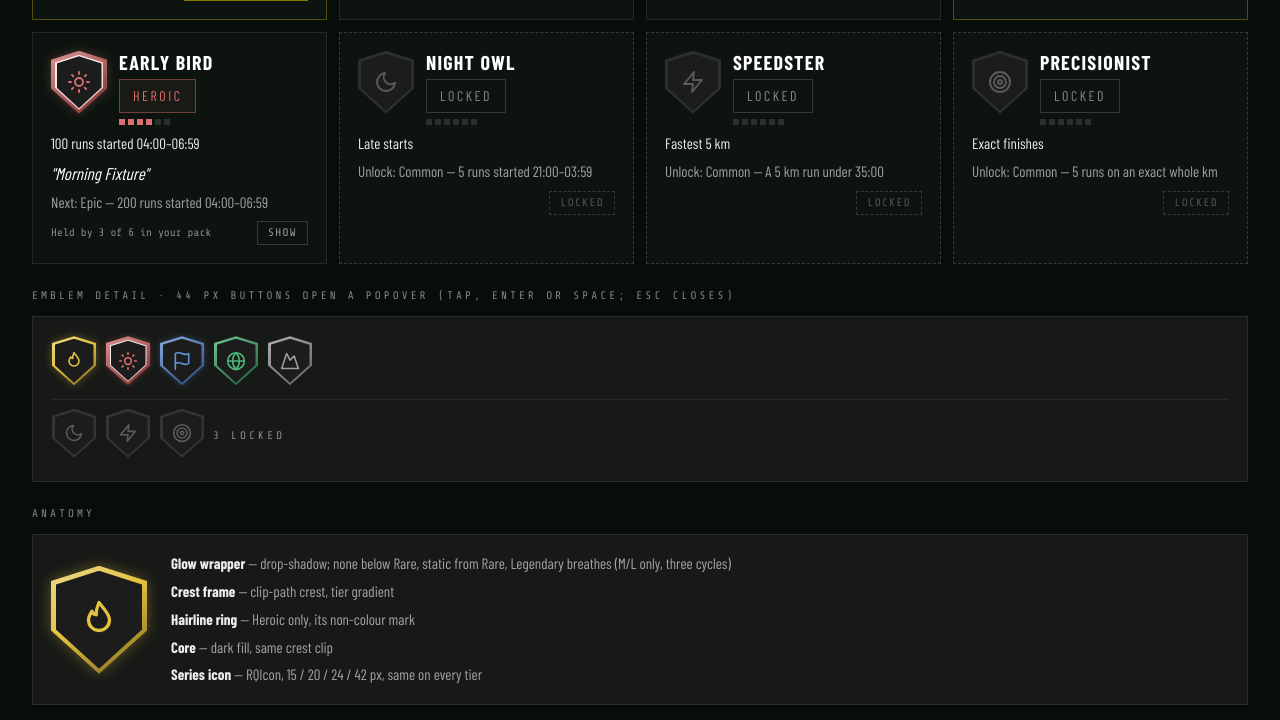
it: /preview/badges › emblemknapparna: intjänade sorterade på nivå (buildBadgeSummary) och låsta separat, varje öppnar en popover
(page scrolled)
Click the button named "Legendary Streak Keeper" at (74, 361), box x1=51 y1=335 x2=97 y2=386
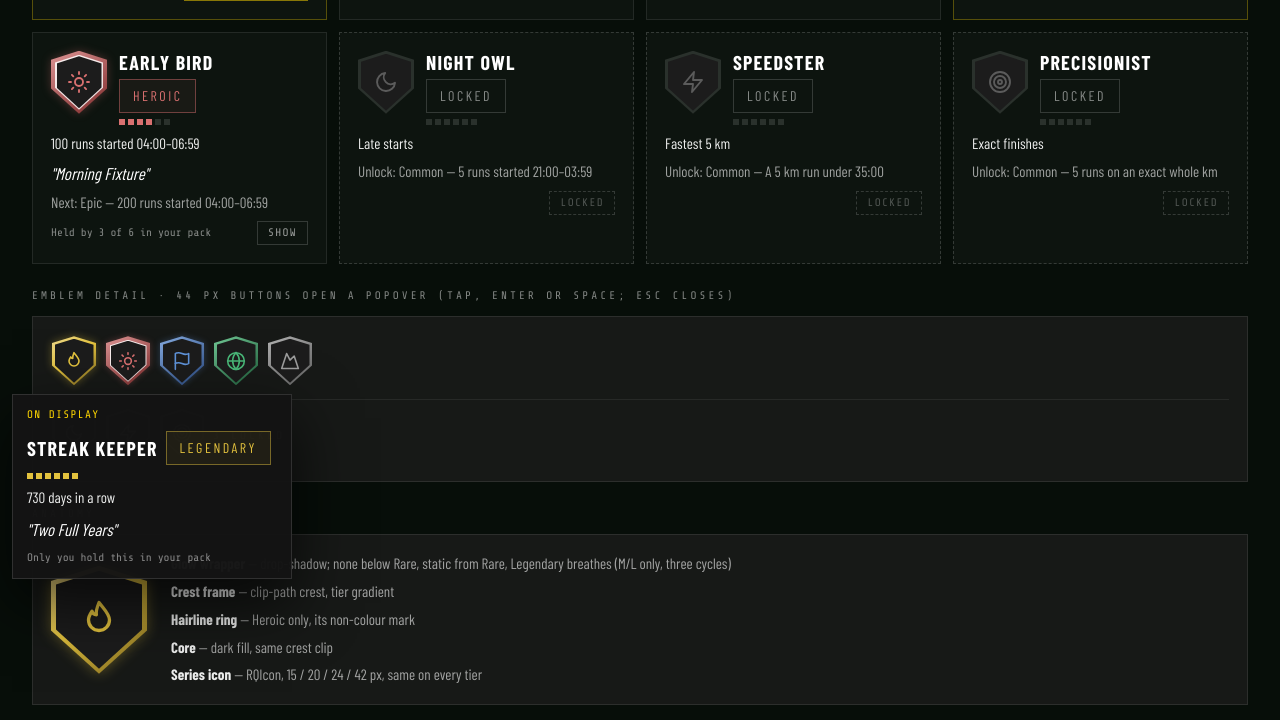
expect the dialog is shown: met, box x1=12 y1=394 x2=292 y2=579
